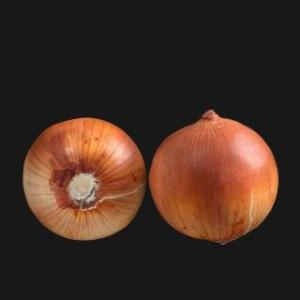onion: (152, 110, 280, 244), (21, 116, 148, 242)
